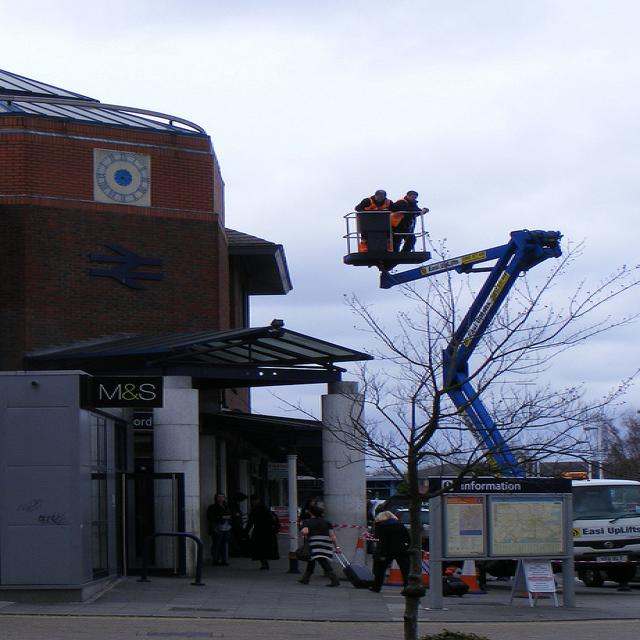Vehicle: (562, 470, 640, 586), (575, 479, 638, 588), (394, 508, 431, 538)
